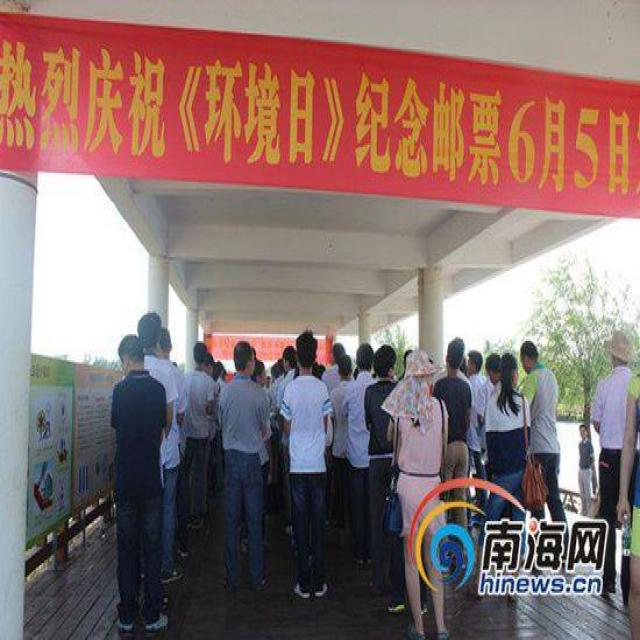non-fight: (104, 320, 182, 638), (376, 343, 442, 638), (275, 334, 336, 600), (582, 331, 639, 612), (215, 339, 276, 565), (516, 338, 566, 574), (433, 336, 479, 484)
